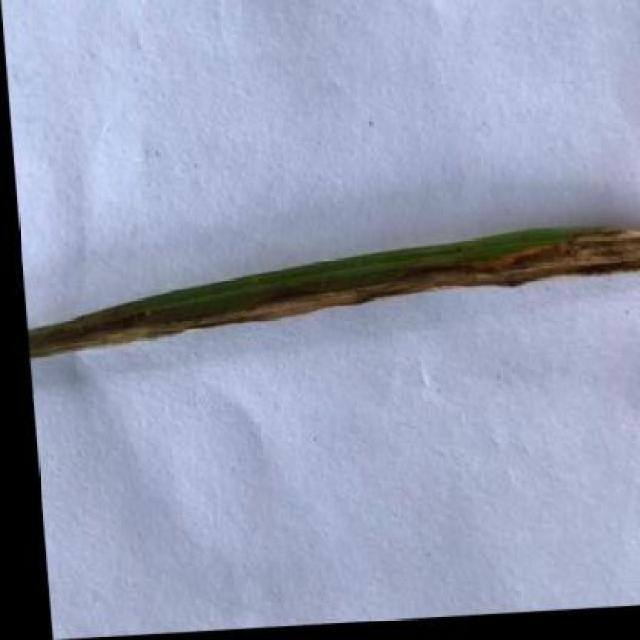Brown_Spot: (15, 221, 640, 367)
